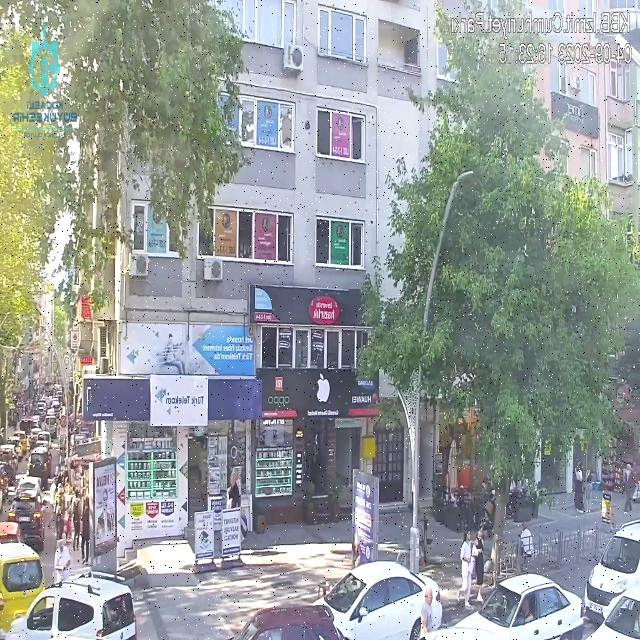car: (321, 560, 436, 638), (458, 573, 585, 640)
